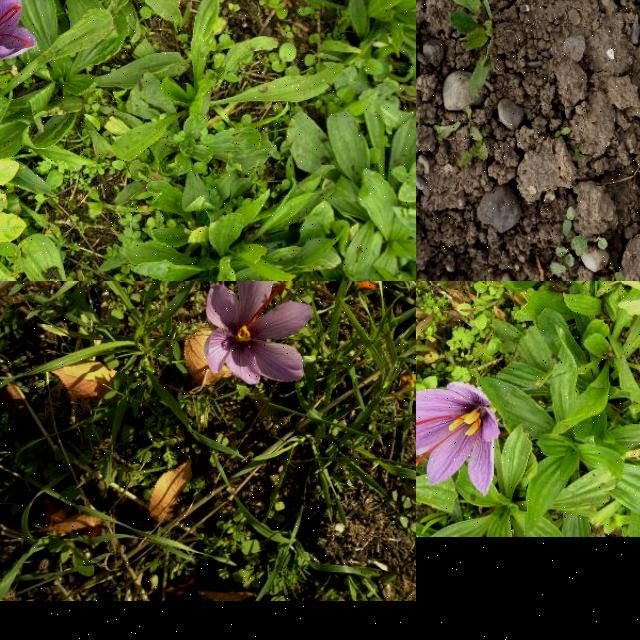flower: (203, 281, 315, 384), (416, 381, 501, 499), (0, 0, 39, 61)
